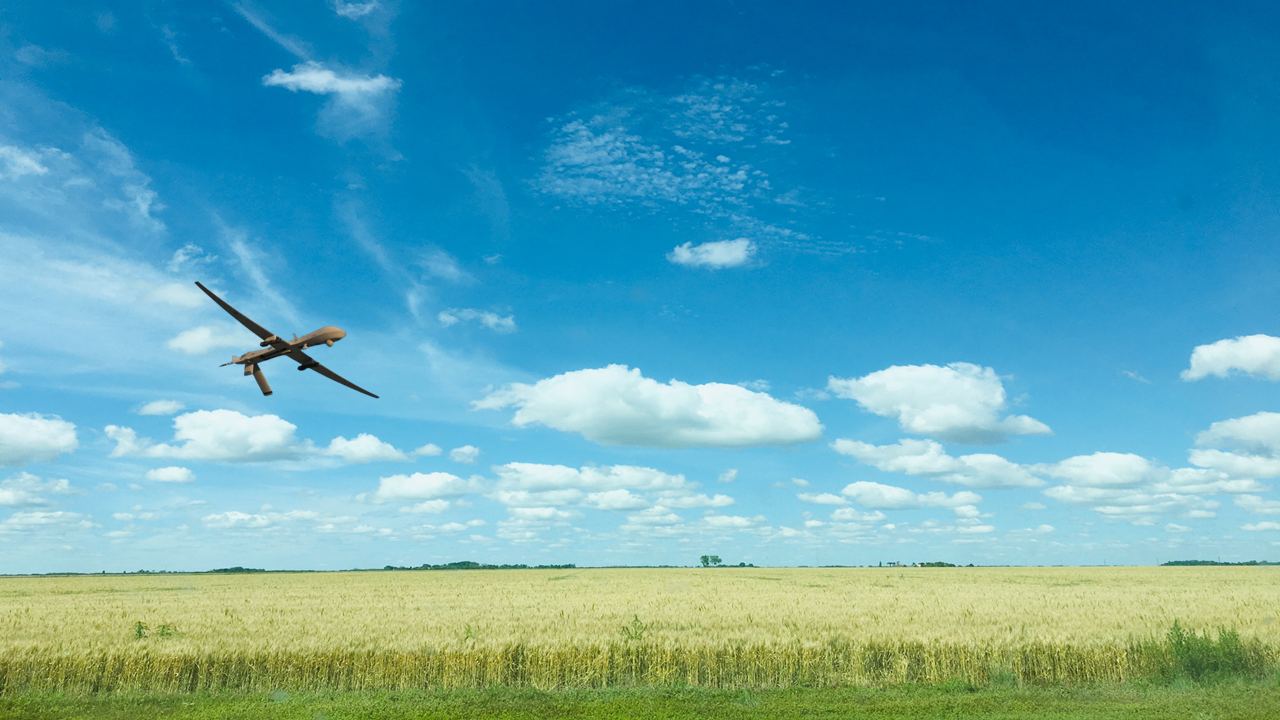military drone: (194, 281, 379, 398)
